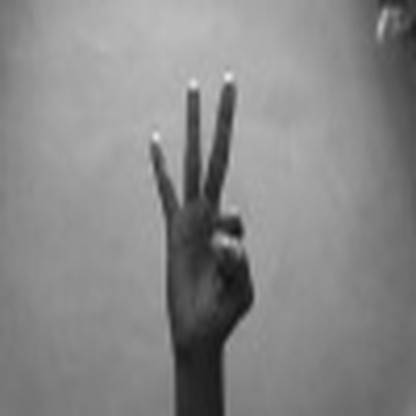f: (133, 74, 277, 367)
